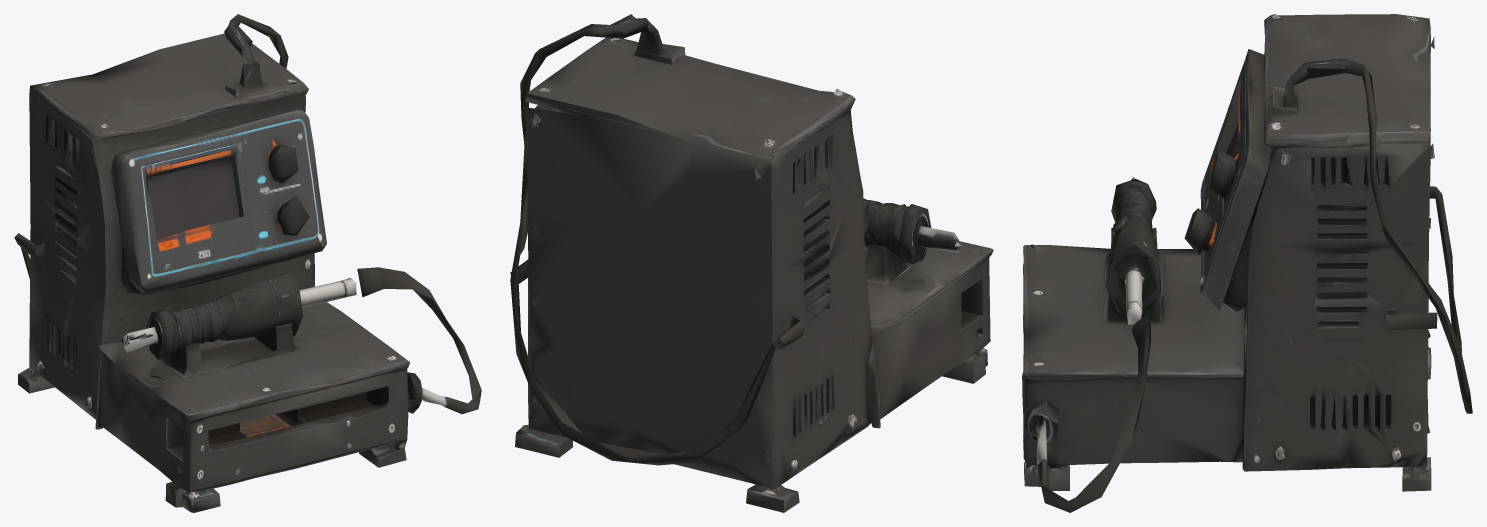
The model's file is 18_hot_air_station.glb.
The picture shows the model from 3 angles, left to right: view 1: azimuth 30°, elevation 25°; view 2: azimuth 150°, elevation 25°; view 3: azimuth 270°, elevation 25°; orthographic projection. The views are drawn at different scales.
Parts seen in each view (by area): view 1: tripo_node_dc664096-8d52-4c65-b868-ac72f30536e8; view 2: tripo_node_dc664096-8d52-4c65-b868-ac72f30536e8; view 3: tripo_node_dc664096-8d52-4c65-b868-ac72f30536e8.
Boxes of the visible parts, box(x1,y1,x2,y2) form: tripo_node_dc664096-8d52-4c65-b868-ac72f30536e8: box(14, 14, 481, 512); tripo_node_dc664096-8d52-4c65-b868-ac72f30536e8: box(510, 14, 993, 512); tripo_node_dc664096-8d52-4c65-b868-ac72f30536e8: box(1022, 14, 1472, 512).
Size of the model in its own units: 0.22 by 0.22 by 0.22.
1 material, 1 textured.
